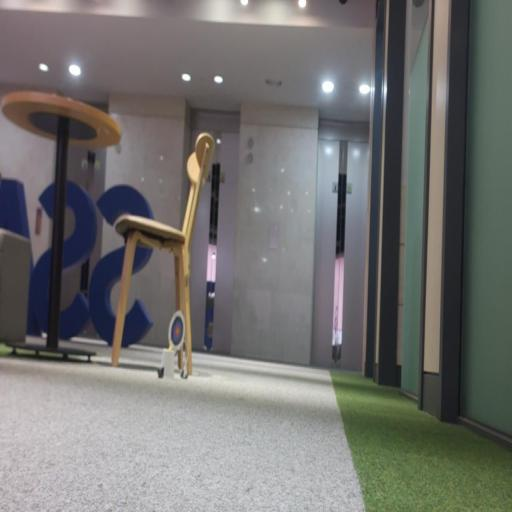target: (168, 311, 185, 351)
